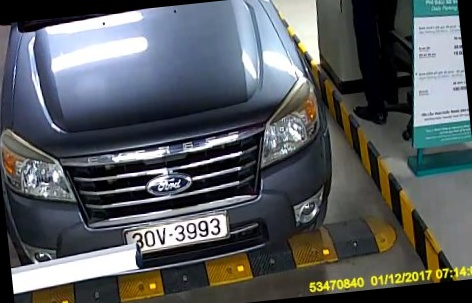plate: (123, 212, 233, 253)
